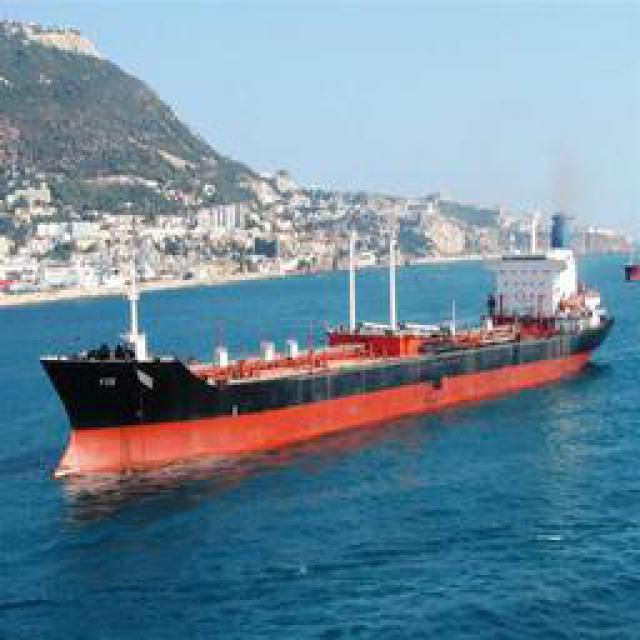Ship: (46, 267, 626, 515)
